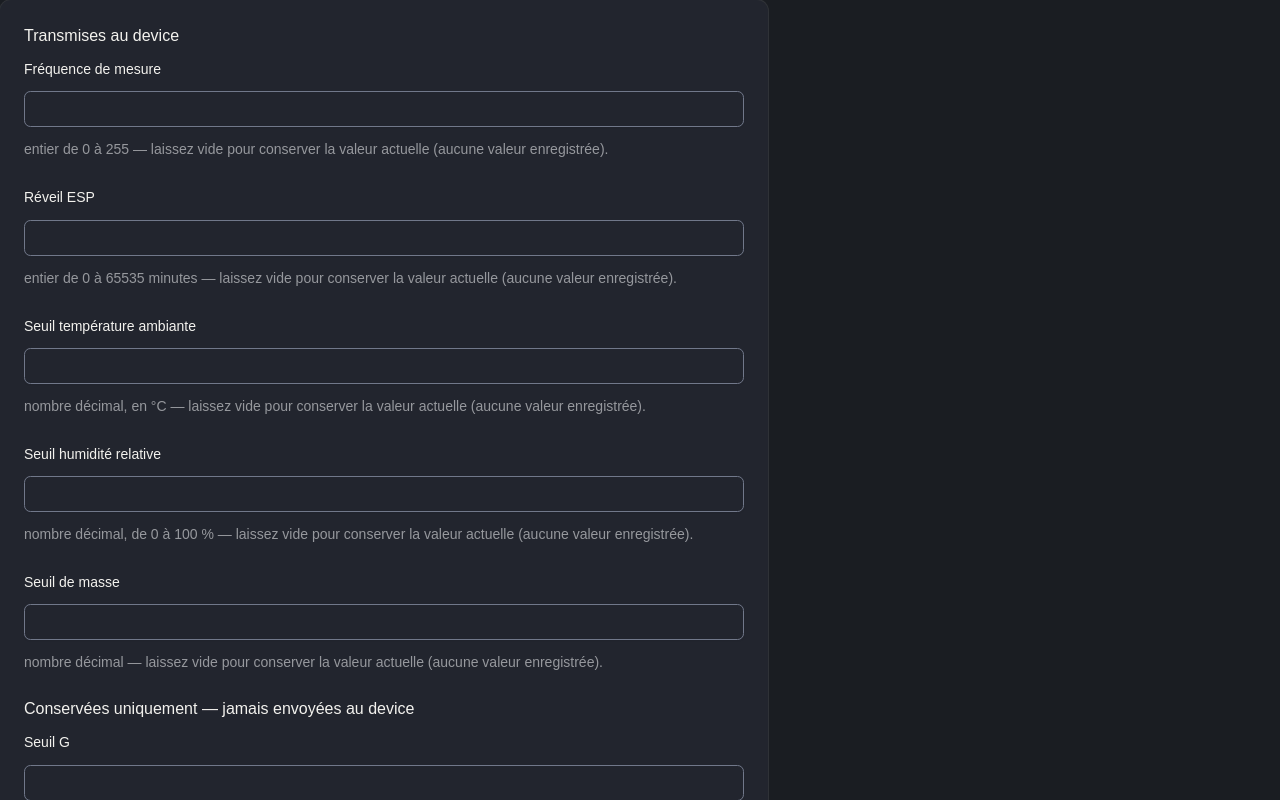
Test: SettingsForm submit (KAN-166 FR11, FR13, FR20) › switching to a new device clears a previous flash (FR20)
The width and height of the screenshot is (1280, 800).
Type "10" into the field with test id "settings-field-FREQ_MESURE_CL" at (384, 109), box [24,91,744,127]
(page scrolled)
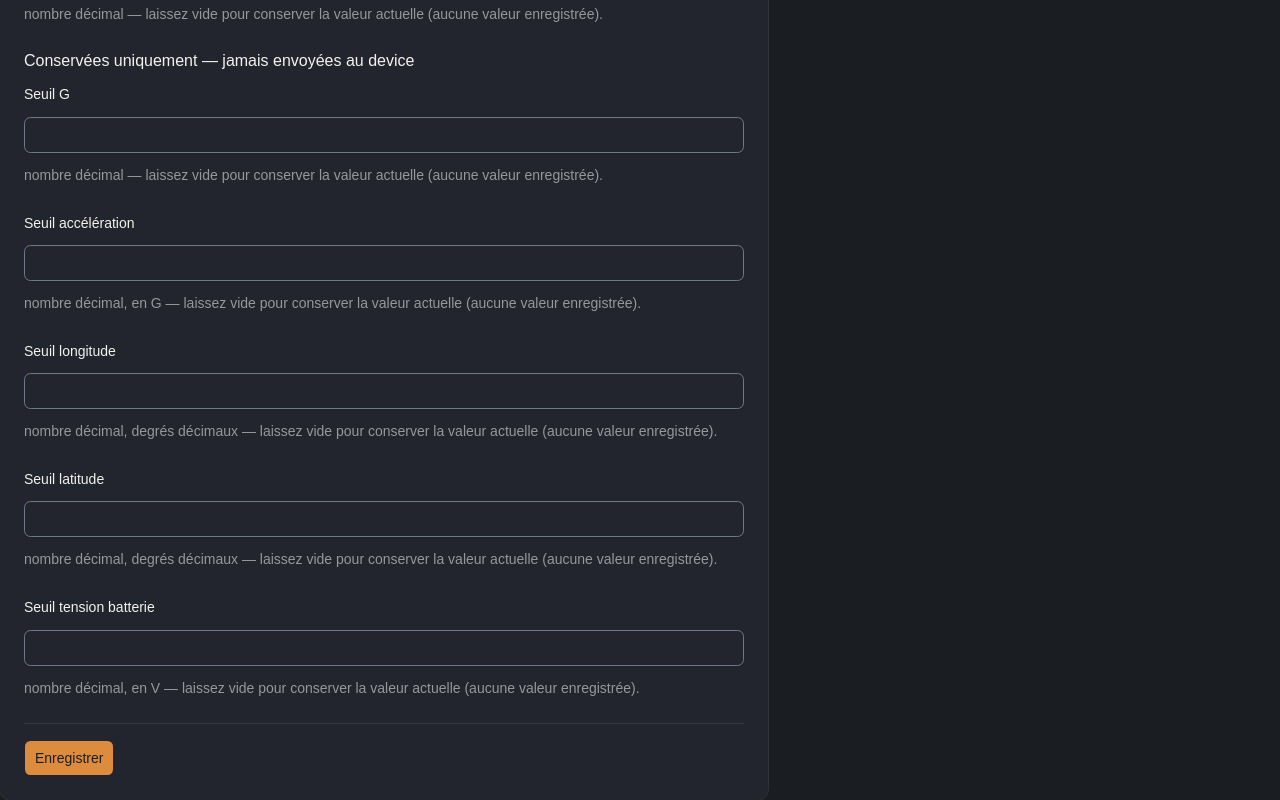
Click the button with test id "settings-form-submit" at (69, 758), box [24,740,114,776]
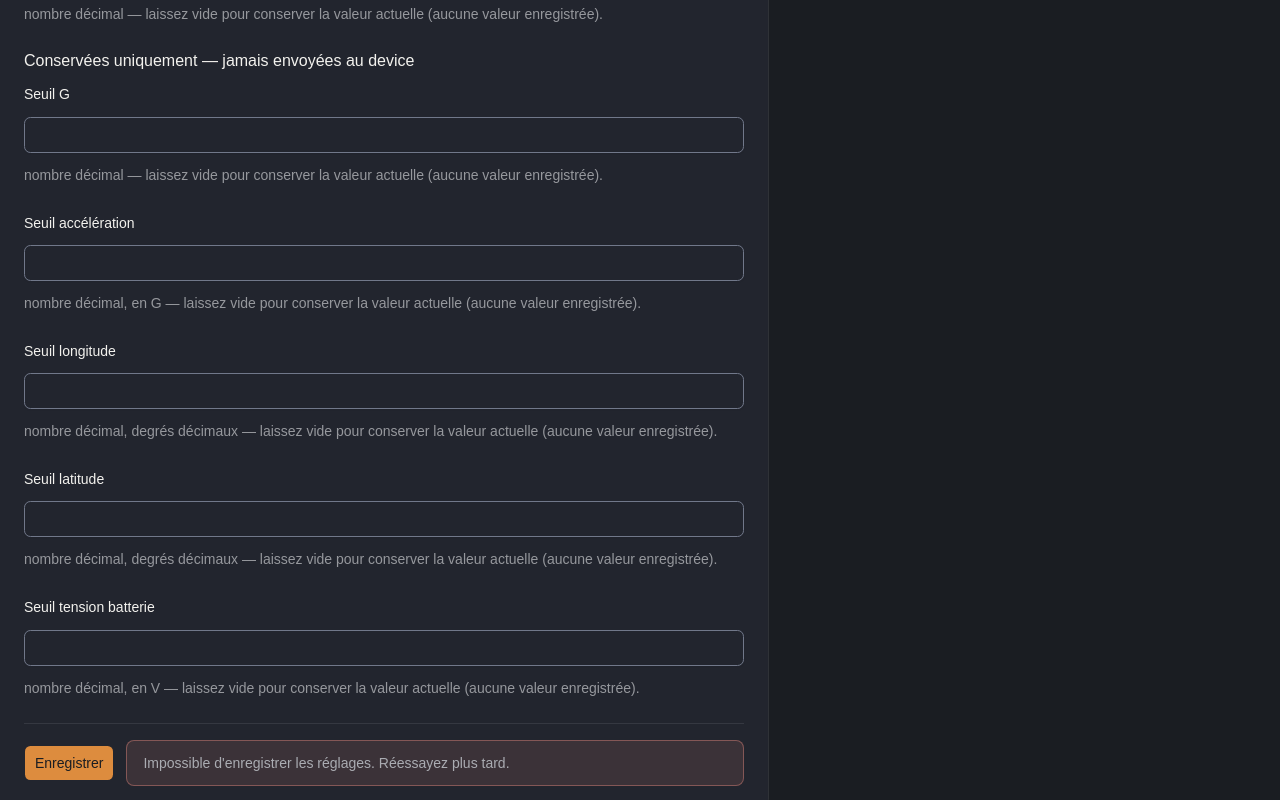
Check: the message "Impossible d'enregistrer les réglages. Réessayez plus tard." is shown, box [126,740,744,786]
